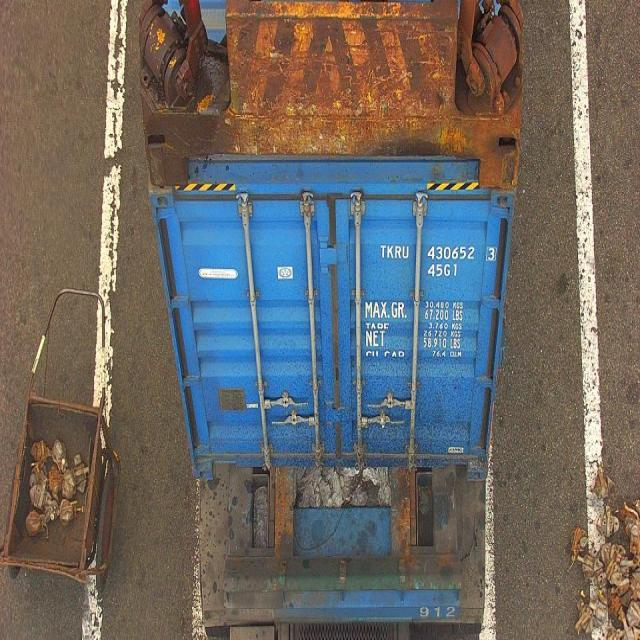ISO: (428, 263, 458, 279)
container_number: (380, 246, 499, 262)
